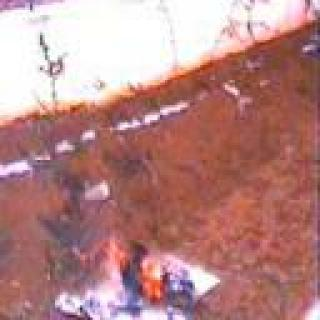fire: (73, 236, 205, 307)
